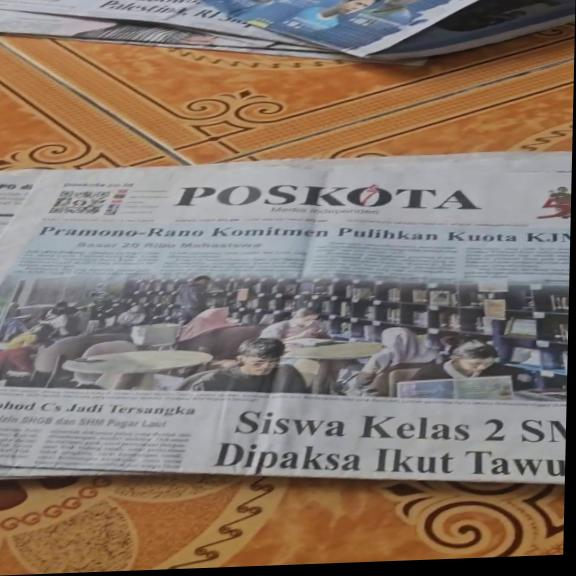Kertas: (0, 155, 563, 498)
